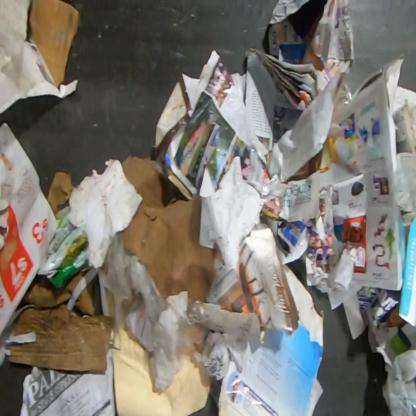cardboard: (216, 263, 326, 415), (0, 121, 58, 339), (8, 303, 114, 371), (28, 0, 81, 90)
soft_plastic: (36, 206, 88, 290)
